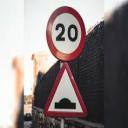speed_limit_20: (45, 3, 88, 62)
